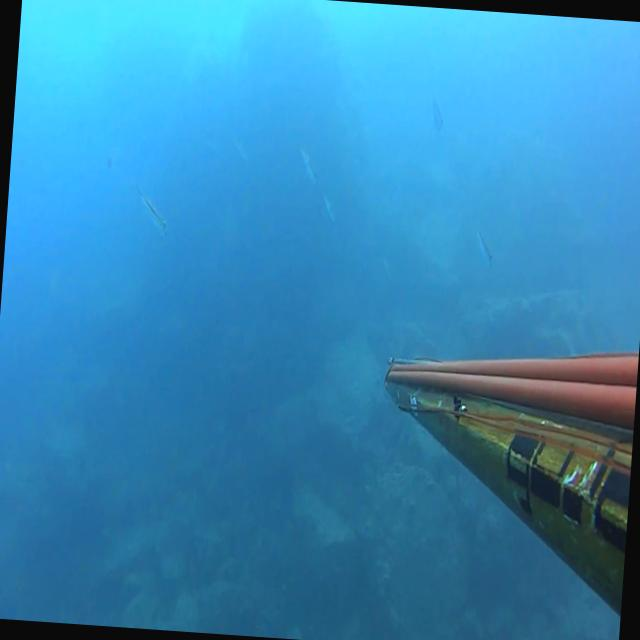Balon Baligi: (134, 184, 169, 236), (473, 227, 494, 266), (298, 146, 319, 184), (428, 91, 444, 130), (322, 193, 338, 222)
